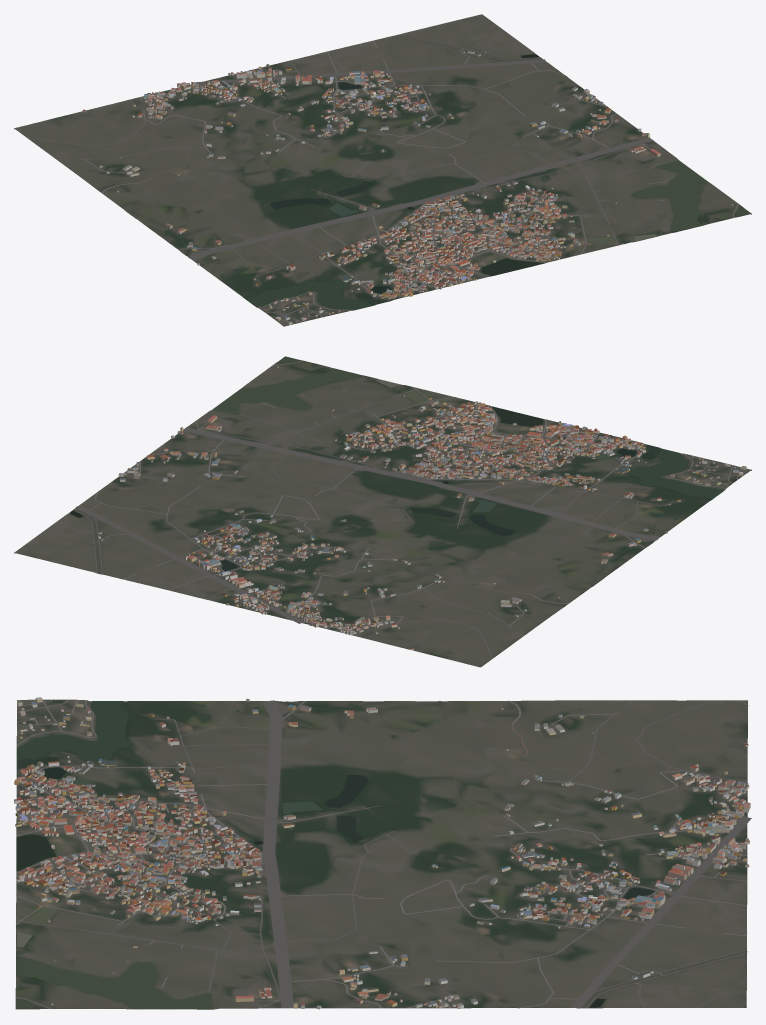
3 views of the same model, one above another, from view 1: azimuth 30°, elevation 25°; view 2: azimuth 150°, elevation 25°; view 3: azimuth 270°, elevation 25° (orthographic). The views are drawn at different scales.
Parts seen in each view (by area): view 1: ground, buildings, roads, water; view 2: ground, buildings, roads, water; view 3: ground, buildings, roads, water.
Part boxes in pixels (<box>): ground: <box>14,14,751,326</box>; buildings: <box>82,50,732,325</box>; roads: <box>16,24,738,324</box>; water: <box>127,35,750,309</box>; ground: <box>14,358,751,667</box>; buildings: <box>98,366,746,650</box>; roads: <box>32,360,742,665</box>; water: <box>70,356,723,585</box>; ground: <box>15,699,747,1009</box>; buildings: <box>14,697,750,1009</box>; roads: <box>16,699,751,1008</box>; water: <box>16,701,747,1008</box>.
Size of the model in its own units: 1406 by 19.13 by 1415.
